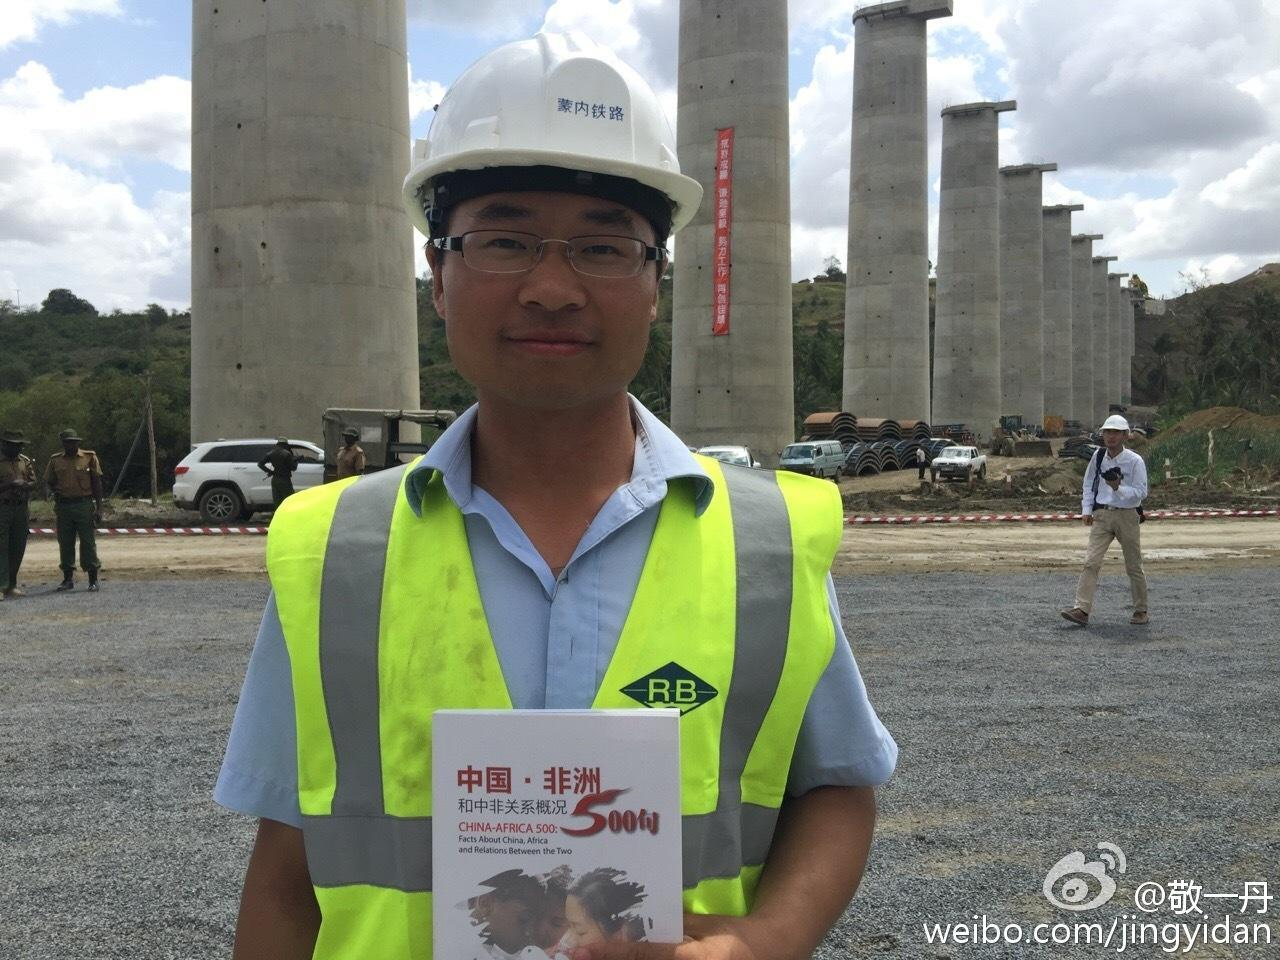helmet: (401, 39, 712, 225)
person: (198, 39, 897, 960)
vest: (258, 462, 856, 960)
